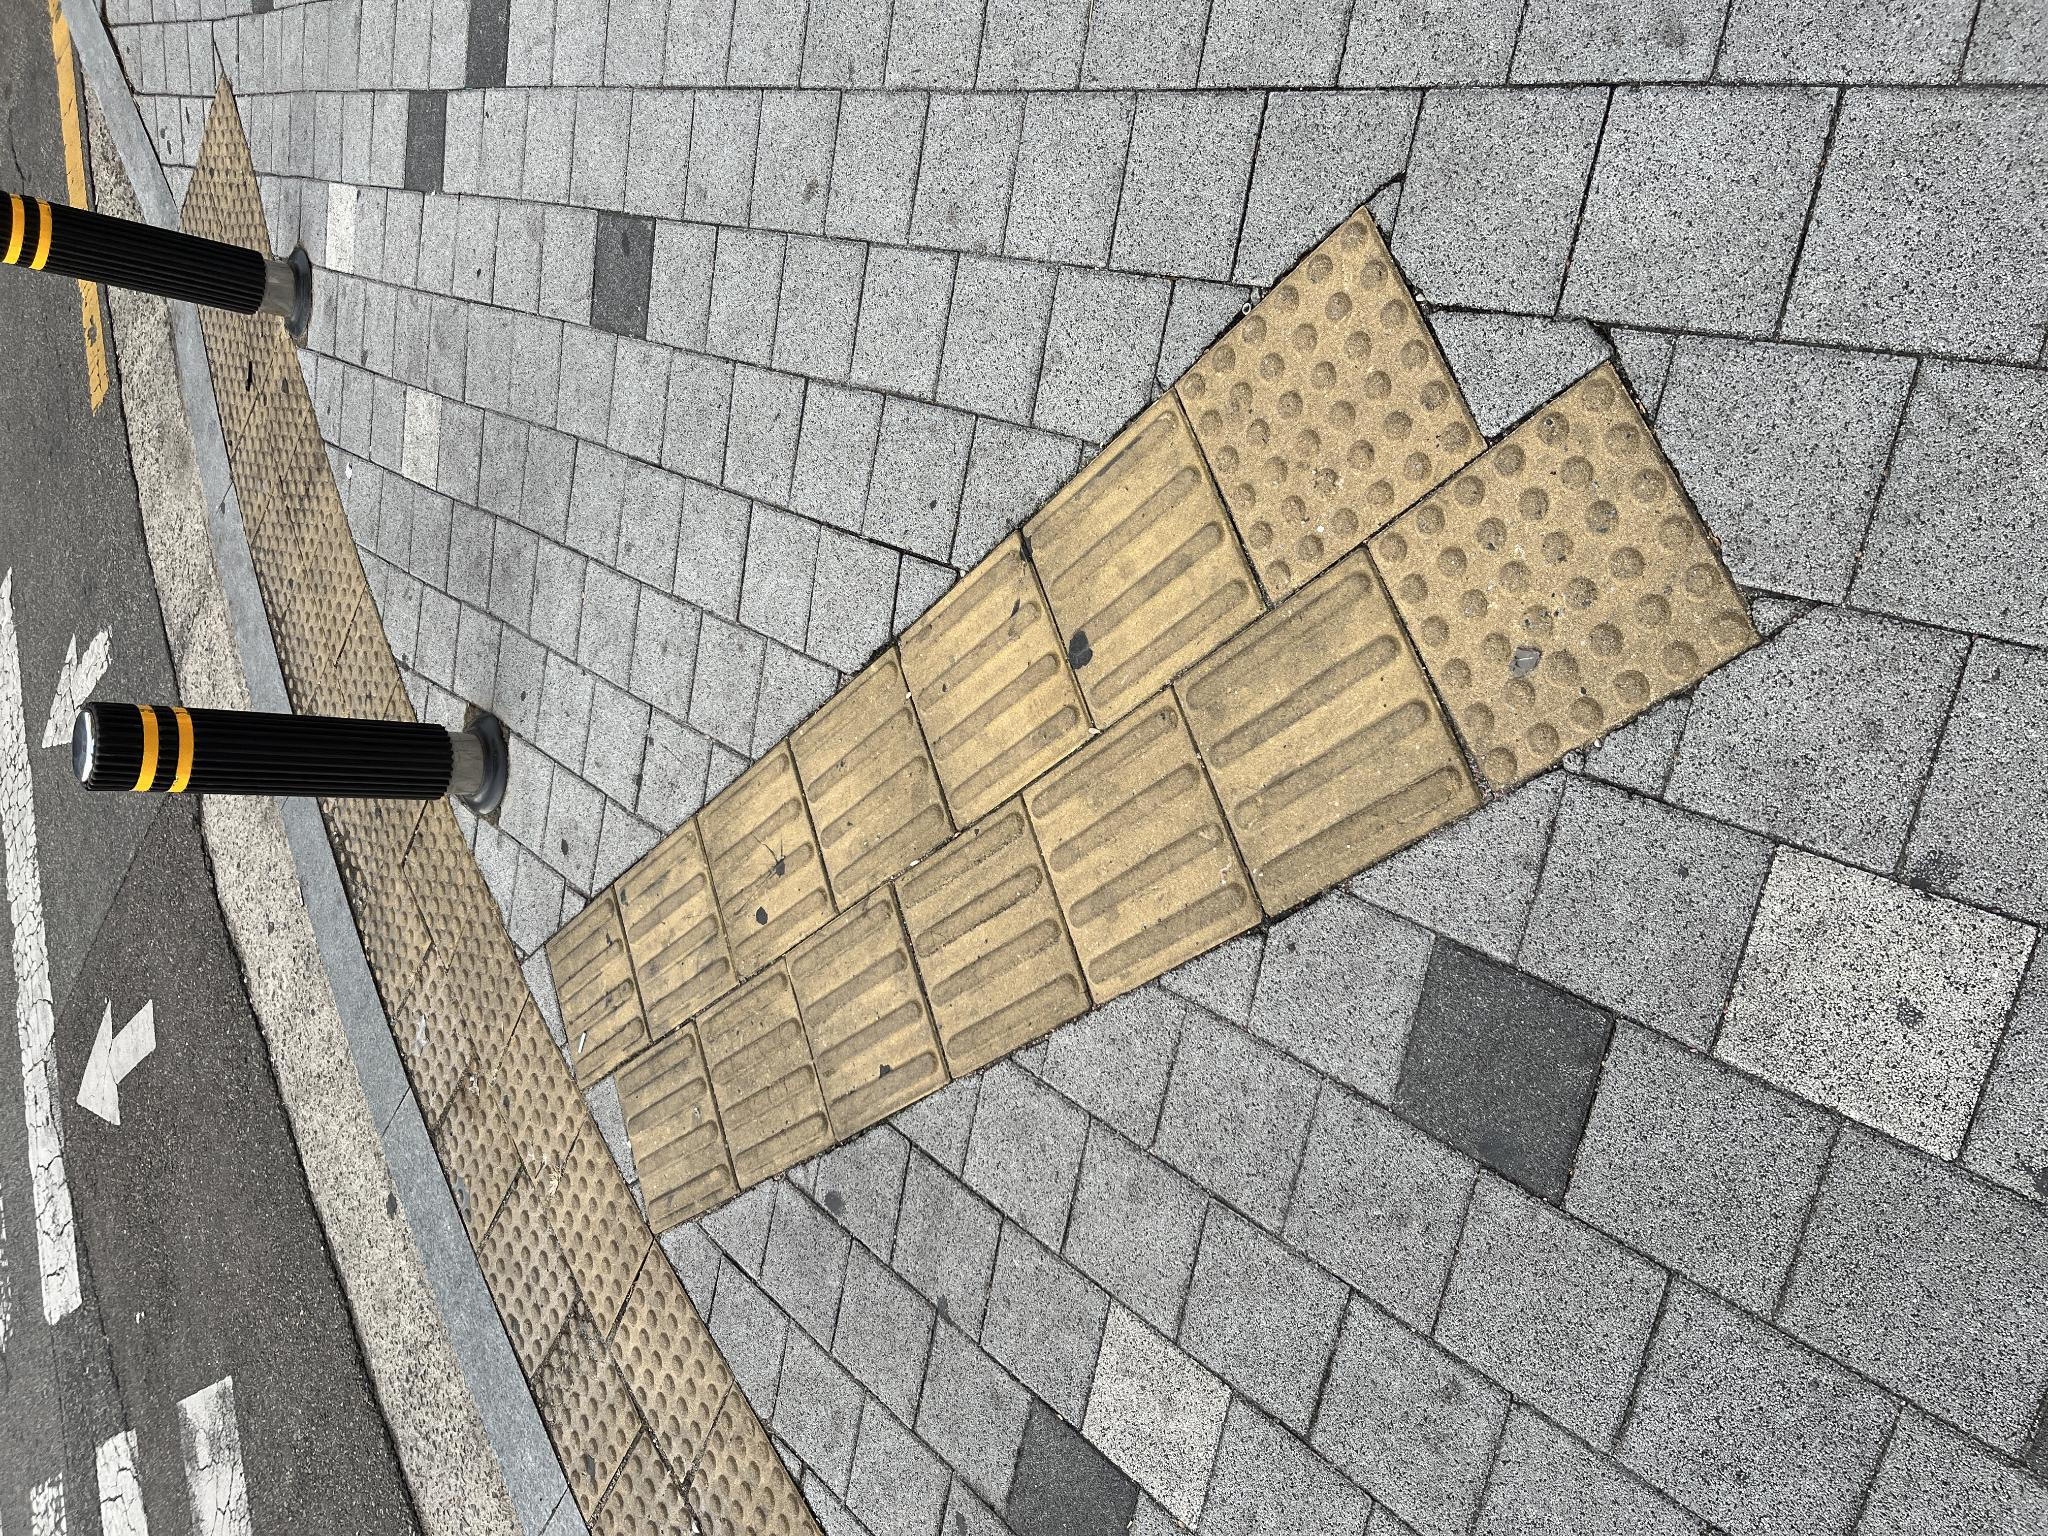Straight block normal: (621, 1171, 984, 1476), (626, 792, 890, 950)
